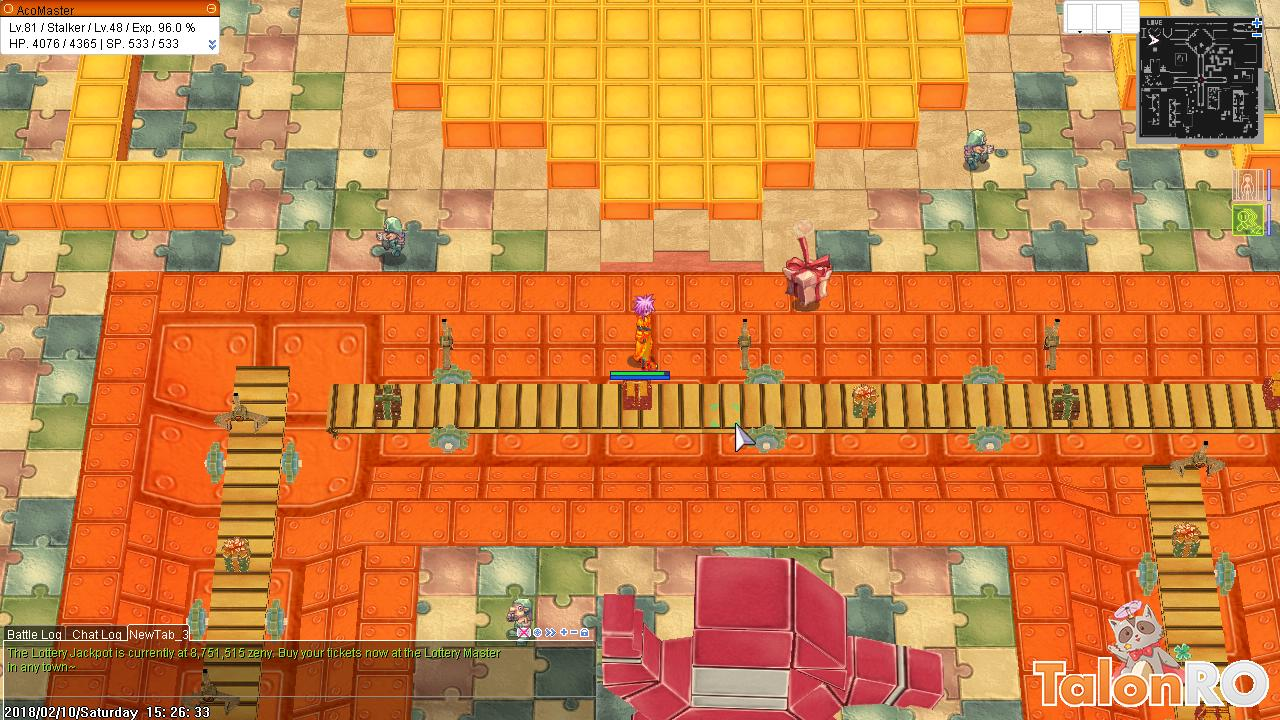myst_case: (778, 234, 836, 312)
